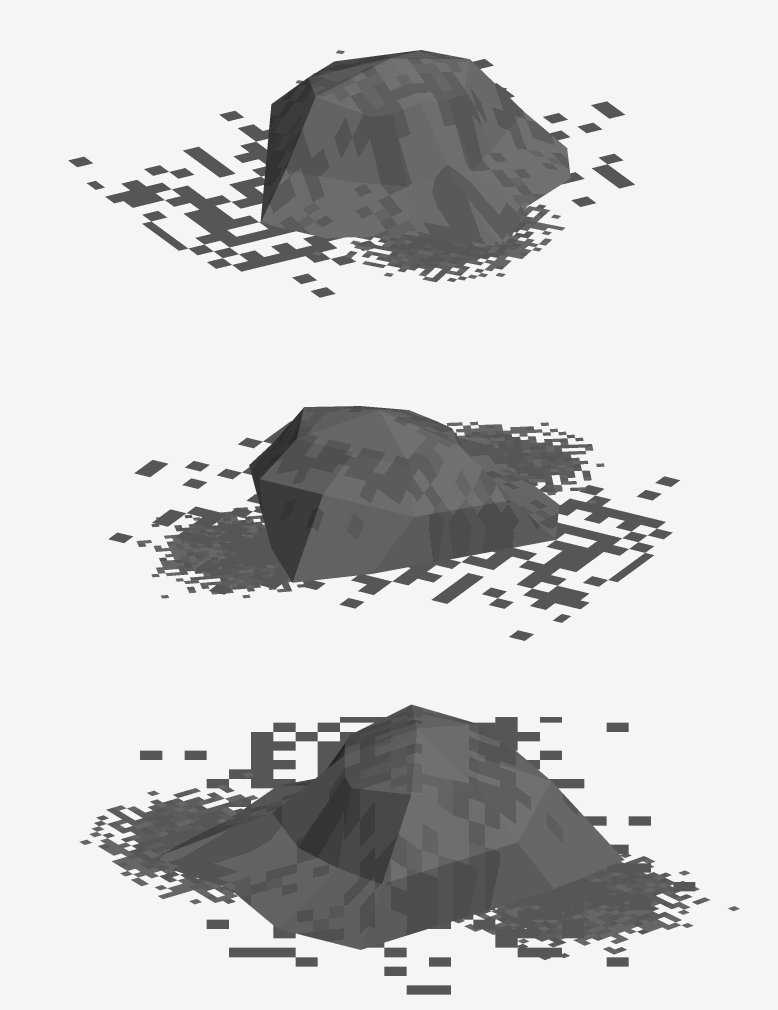
The model's file is ceniza.fbx.
3 renders of one model, top to bottom at view 1: azimuth 30°, elevation 25°; view 2: azimuth 150°, elevation 25°; view 3: azimuth 270°, elevation 25°, orthographic. The views are drawn at different scales.
Visible parts, largest first — view 1: Sphere; view 2: Sphere; view 3: Sphere.
Boxes of the visible parts, box(x1,y1,x2,y2) form: Sphere: box(68, 50, 634, 297); Sphere: box(108, 406, 679, 640); Sphere: box(79, 704, 739, 994).
Size of the model in its own units: 455 by 101 by 518.
